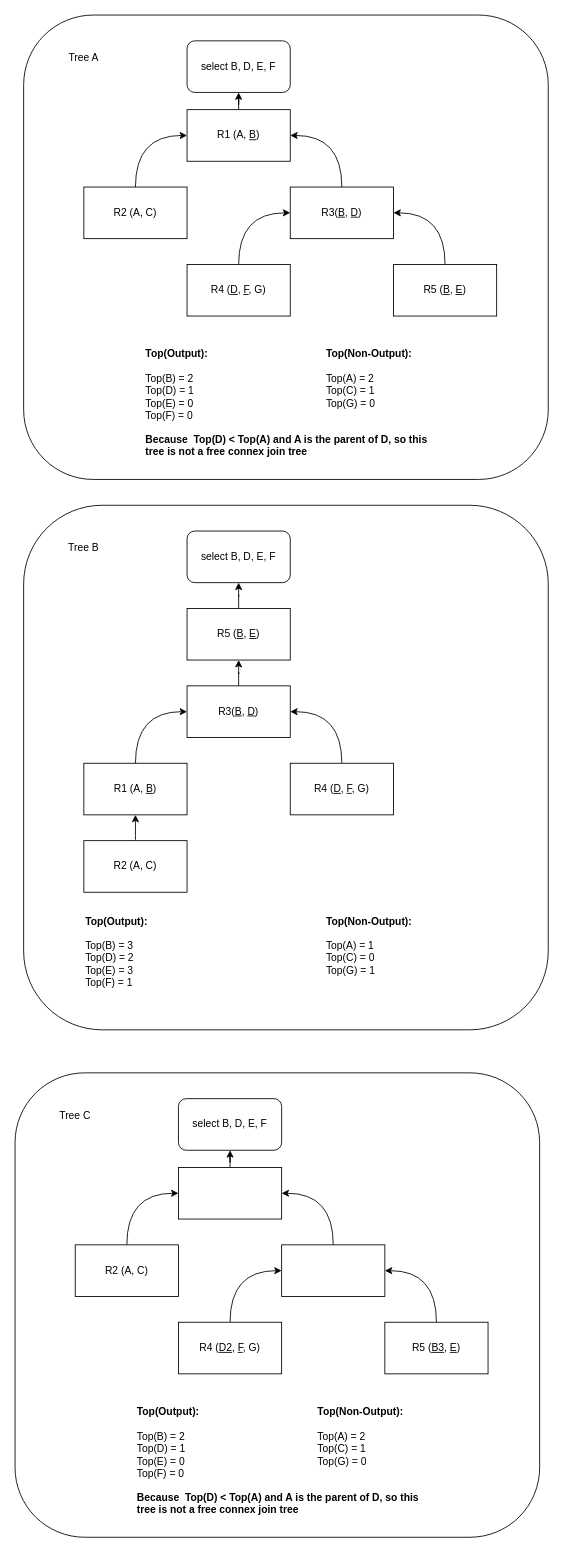
The diagram is 563 pixels wide and 1552 high, and some of its shapes have lost their labels. The centre of each missing label's shape, as x and y in pixels:
R1 (A, B1 ): the point at 230,1193
R3( B2 , D1 ): the point at 333,1270
